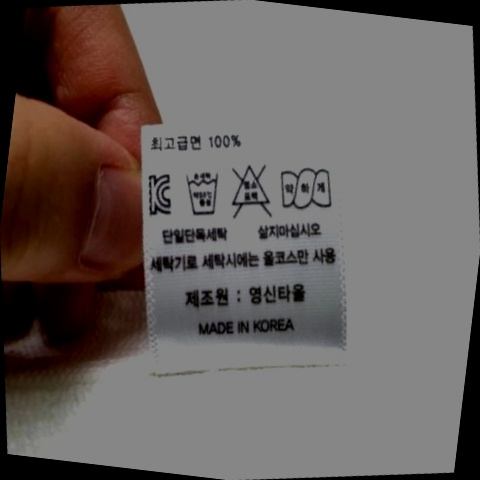hand_wash: (178, 165, 232, 225)
non_chlorine_bleach: (221, 154, 282, 227)
wring: (273, 161, 338, 218)
